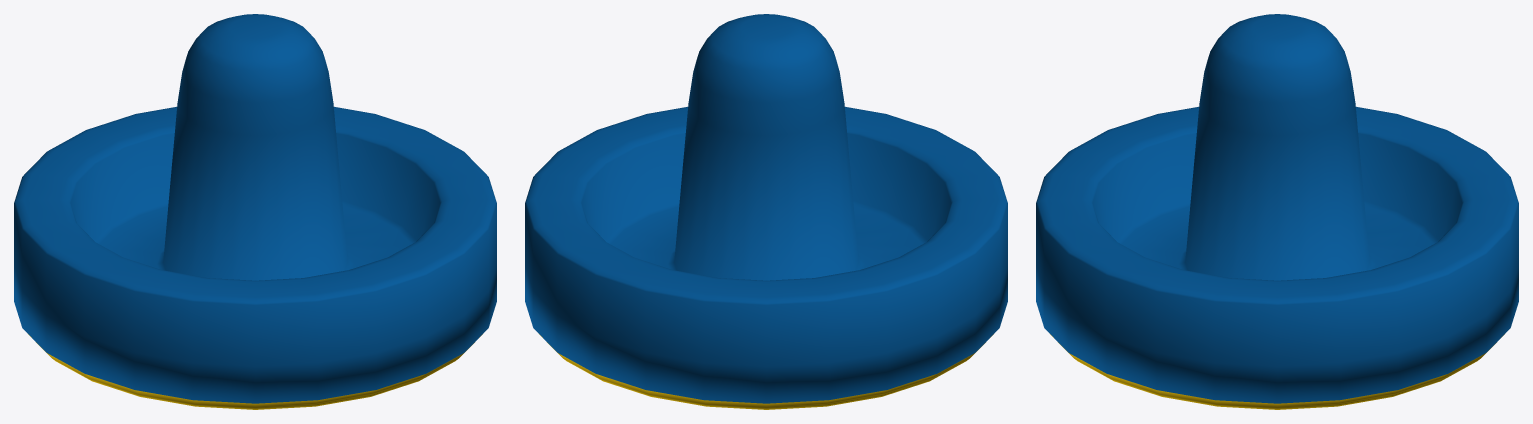
The model's file is AIR HOCKEY PADDLE.fbx.
The picture shows the model from 3 angles, left to right: view 1: azimuth 30°, elevation 25°; view 2: azimuth 150°, elevation 25°; view 3: azimuth 270°, elevation 25°; orthographic projection.
Parts seen in each view (by area): view 1: Cylinder; view 2: Cylinder; view 3: Cylinder.
Boxes of the visible parts, x1=… form: Cylinder: x1=14, y1=14, x2=496, y2=409; Cylinder: x1=525, y1=14, x2=1007, y2=409; Cylinder: x1=1036, y1=14, x2=1518, y2=409.
Bounding box in the file's own units: 676 × 445 × 676.
